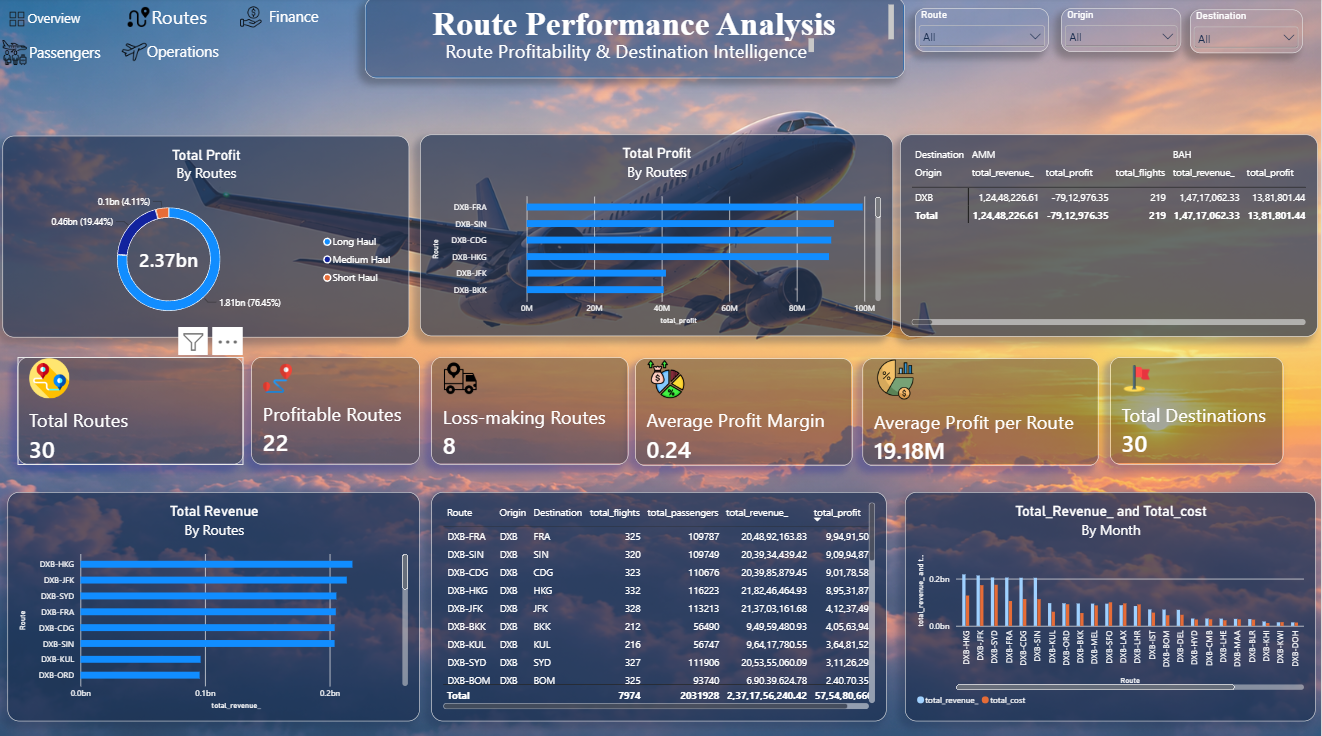

The dashboard page shown, as its layout file describes it:
{"tool":"powerbi","page":{"name":"Route Performance Analysis","canvas":[1920,1080],"ordinal":1},"visuals":[{"type":"clusteredBarChart","title":"Total Revenue","fields":{"Category":["route_details.Route"],"Y":["calculation_tbl.total_revenue_"]},"box":[18.8,715.8,596.9,331.8],"z":0},{"type":"clusteredBarChart","title":"Total Profit","fields":{"Category":["route_details.Route"],"Y":["calculation_tbl.total_profit"]},"box":[615.3,199.1,684.5,292.2],"z":1000},{"type":"clusteredColumnChart","title":"Total_Revenue_ and Total_cost","fields":{"Category":["route_details.Route"],"Y":["calculation_tbl.total_revenue_","calculation_tbl.total_cost"]},"box":[1316.9,715.8,594.8,331.8],"z":2000},{"type":"cardVisual","fields":{"Data":["calculation_tbl.Profitable Routes"]},"box":[371,521.2,244.3,155.6],"z":3000},{"type":"cardVisual","fields":{"Data":["calculation_tbl.Average Profit per Route"]},"box":[1255.9,523,342,155.6],"z":4000},{"type":"cardVisual","fields":{"Data":["calculation_tbl.Average Profit Margin"]},"box":[926.5,523,314.9,155.6],"z":5000},{"type":"cardVisual","fields":{"Data":["calculation_tbl.Loss-making Routes"]},"box":[631.6,521.2,285.9,155.6],"z":6000},{"type":"cardVisual","fields":{"Data":["calculation_tbl.Total Destinations"]},"box":[1614.2,521.2,251.5,155.6],"z":7000},{"type":"slicer","fields":{"Values":["route_details.Route"]},"box":[1331.9,16.3,193.6,63.3],"z":8000},{"type":"slicer","fields":{"Values":["route_details.Origin"]},"box":[1543.6,16.3,173.7,63.3],"z":9000},{"type":"slicer","fields":{"Values":["route_details.Destination"]},"box":[1730,18.1,162.9,63.3],"z":10000},{"type":"shape","box":[535.7,0,781.8,117.6],"z":11000},{"type":"textbox","box":[557.4,10.9,743.8,52.5],"z":12000},{"type":"textbox","box":[649.7,59.7,535.7,32.6],"z":13000},{"type":"donutChart","title":"Total Profit","fields":{"Category":["route_details.Route_Category"],"Y":["calculation_tbl.total_revenue_"]},"box":[10.4,200.3,588.5,292.2],"z":14000},{"type":"pivotTable","title":"Total Profit","fields":{"Columns":["route_details.Destination"],"Rows":["route_details.Origin"],"Values":["calculation_tbl.total_revenue_","calculation_tbl.total_profit","calculation_tbl.total_flights"]},"box":[1310.2,199.1,604.4,293.2],"z":15000},{"type":"tableEx","title":"Total Profit","fields":{"Values":["route_details.Route","route_details.Origin","route_details.Destination","calculation_tbl.total_flights","calculation_tbl.total_passengers","calculation_tbl.total_revenue_","calculation_tbl.total_profit"]},"box":[632.3,715.8,659.5,331.8],"z":16000},{"type":"cardVisual","fields":{"Data":["calculation_tbl.total_routes"]},"box":[32.6,521.2,327.5,155.6],"z":17000},{"type":"actionButton","box":[169,10.6,169,36.1],"z":18000},{"type":"actionButton","box":[16.7,12.8,133.6,38.3],"z":19000},{"type":"image","box":[2.1,17,59.7,31.3],"z":20000},{"type":"textbox","box":[47.1,18.1,85.6,34],"z":21000},{"type":"actionButton","box":[175.5,57.9,173.2,40.4],"z":22000},{"type":"actionButton","box":[10.4,63.8,139.8,48.9],"z":23000},{"type":"textbox","box":[168.3,10.9,152.3,36.1],"z":24000},{"type":"image","box":[187.8,10.6,39.7,36.1],"z":25000},{"type":"textbox","box":[367.4,12.7,129.4,38.3],"z":26000},{"type":"image","box":[352.7,0,35.5,57.4],"z":27000},{"type":"textbox","box":[19.9,65.1,141.9,31.9],"z":28000},{"type":"image","box":[10.4,55.3,35.5,48.9],"z":29000},{"type":"textbox","box":[208.1,63.3,119,34],"z":30000},{"type":"image","box":[175.5,61.5,52.5,36.2],"z":31000}]}

Visuals, with their boxes in screenshot pixels (x1, y1, x2, y2), scaled from the page's 1920x1080 canvas onto the 1322x736 screenshot:
"Total Revenue" clusteredBarChart: (left=13, top=488, right=424, bottom=714)
"Total Profit" clusteredBarChart: (left=424, top=136, right=895, bottom=335)
"Total_Revenue_ and Total_cost" clusteredColumnChart: (left=907, top=488, right=1316, bottom=714)
cardVisual - calculation_tbl.Profitable Routes: (left=255, top=355, right=424, bottom=461)
cardVisual - calculation_tbl.Average Profit per Route: (left=865, top=356, right=1100, bottom=462)
cardVisual - calculation_tbl.Average Profit Margin: (left=638, top=356, right=855, bottom=462)
cardVisual - calculation_tbl.Loss-making Routes: (left=435, top=355, right=632, bottom=461)
cardVisual - calculation_tbl.Total Destinations: (left=1111, top=355, right=1285, bottom=461)
slicer - route_details.Route: (left=917, top=11, right=1050, bottom=54)
slicer - route_details.Origin: (left=1063, top=11, right=1182, bottom=54)
slicer - route_details.Destination: (left=1191, top=12, right=1303, bottom=55)
shape: (left=369, top=0, right=907, bottom=80)
textbox: (left=384, top=7, right=896, bottom=43)
textbox: (left=447, top=41, right=816, bottom=63)
"Total Profit" donutChart: (left=7, top=137, right=412, bottom=336)
"Total Profit" pivotTable: (left=902, top=136, right=1318, bottom=335)
"Total Profit" tableEx: (left=435, top=488, right=889, bottom=714)
cardVisual - calculation_tbl.total_routes: (left=22, top=355, right=248, bottom=461)
actionButton: (left=116, top=7, right=233, bottom=32)
actionButton: (left=11, top=9, right=103, bottom=35)
image: (left=1, top=12, right=43, bottom=33)
textbox: (left=32, top=12, right=91, bottom=36)
actionButton: (left=121, top=39, right=240, bottom=67)
actionButton: (left=7, top=43, right=103, bottom=77)
textbox: (left=116, top=7, right=221, bottom=32)
image: (left=129, top=7, right=157, bottom=32)
textbox: (left=253, top=9, right=342, bottom=35)
image: (left=243, top=0, right=267, bottom=39)
textbox: (left=14, top=44, right=111, bottom=66)
image: (left=7, top=38, right=32, bottom=71)
textbox: (left=143, top=43, right=225, bottom=66)
image: (left=121, top=42, right=157, bottom=67)
